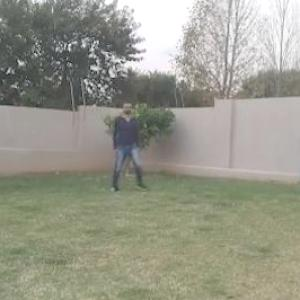follow: (113, 96, 136, 192)
